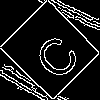C: (25, 25, 84, 84)
